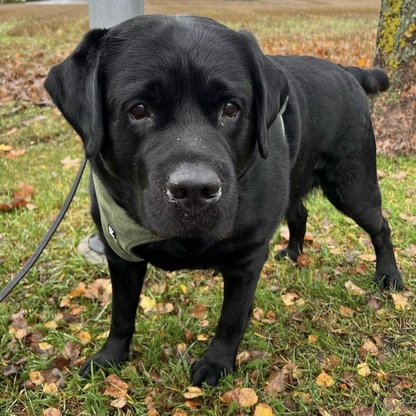labrado: (41, 9, 416, 388)
